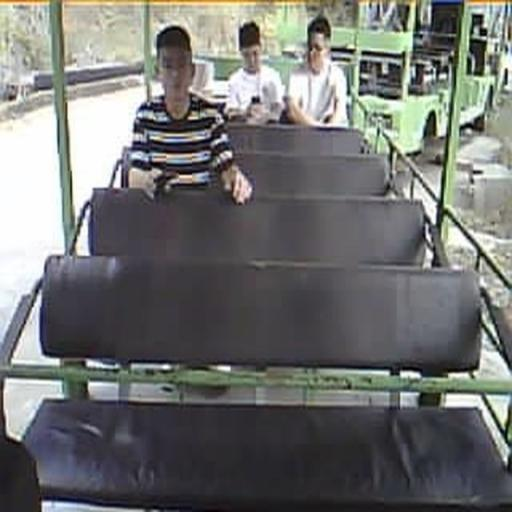persona: (123, 23, 254, 205), (286, 14, 350, 128), (226, 20, 286, 123)
